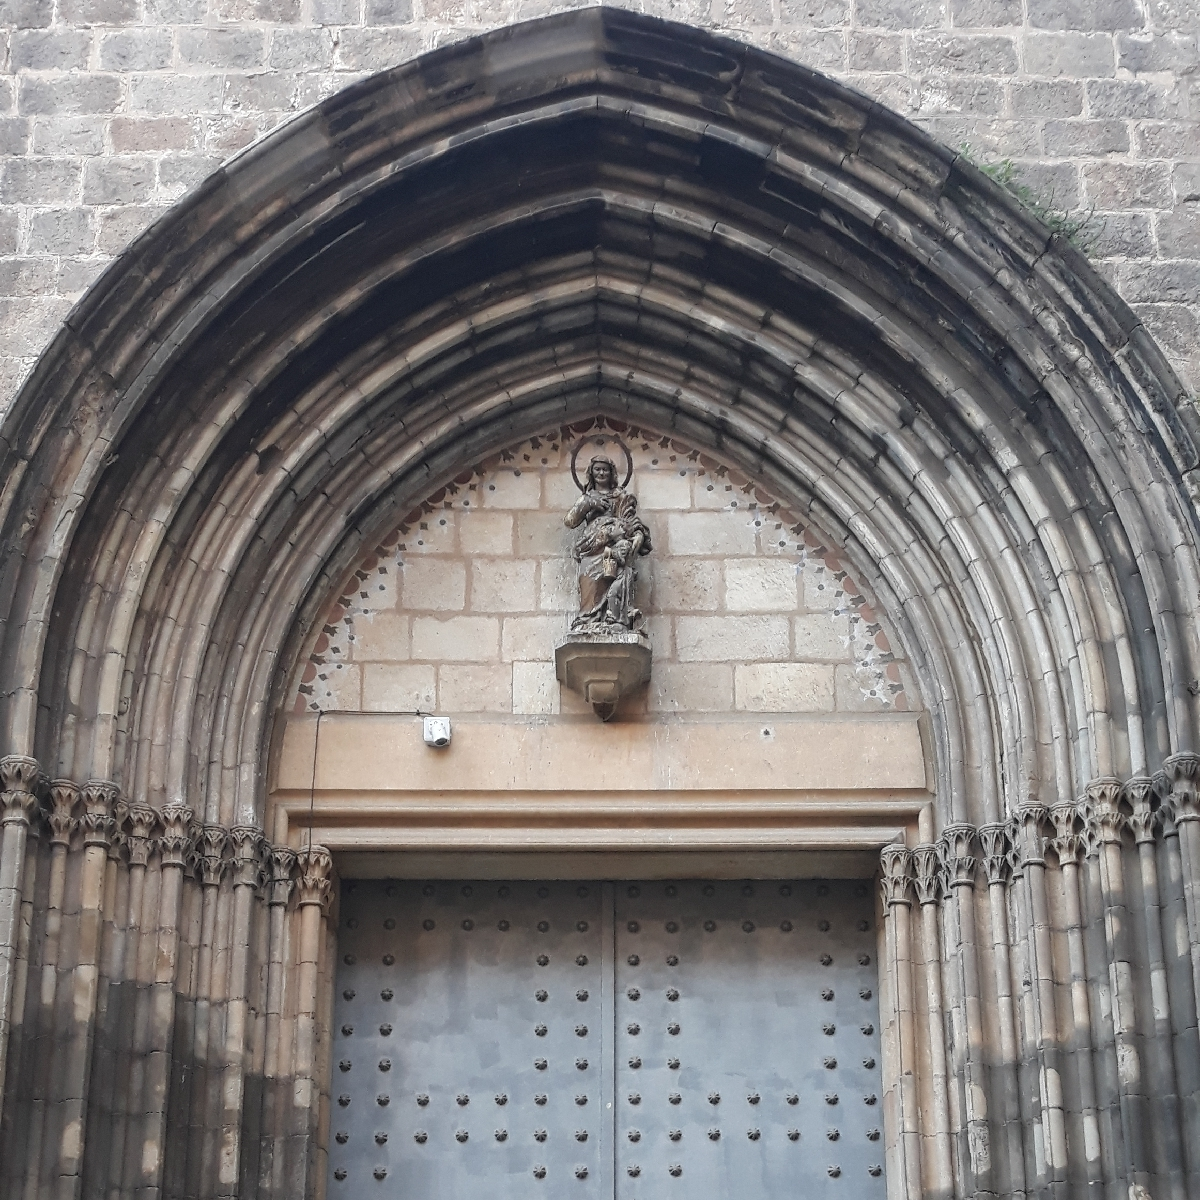arco-apuntado: (1, 1, 1200, 814)
